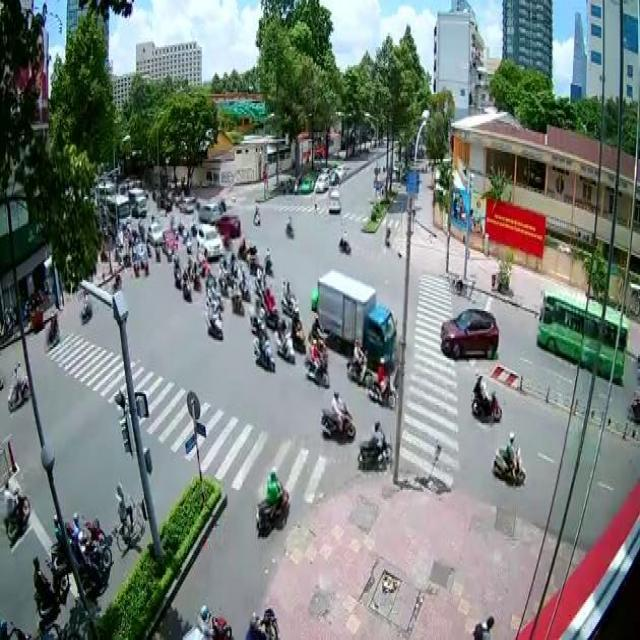bicycle: (113, 479, 146, 552)
bus: (536, 284, 627, 383)
car: (438, 304, 498, 358), (195, 220, 222, 258), (215, 215, 241, 239), (198, 199, 221, 222)
motorcycle: (74, 528, 112, 598), (32, 554, 70, 618), (253, 461, 288, 530), (319, 387, 356, 441), (491, 429, 524, 488), (357, 416, 392, 470), (469, 367, 502, 423), (2, 479, 31, 539), (368, 354, 395, 410), (345, 335, 372, 385), (4, 359, 31, 408), (303, 336, 328, 387), (252, 322, 274, 372), (275, 313, 297, 363), (279, 273, 300, 320), (203, 293, 224, 338), (41, 306, 59, 352), (230, 276, 242, 316), (216, 260, 228, 296), (180, 264, 191, 302), (173, 253, 182, 291)
truck: (314, 267, 398, 378)
